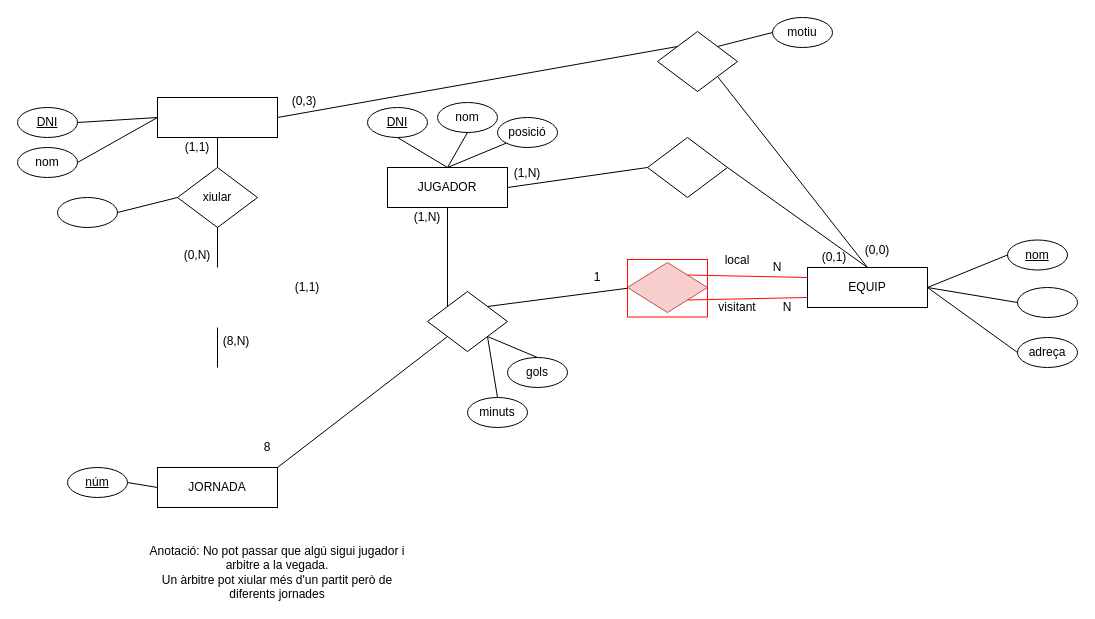
Image size: 1095x619. Some labels were removed from this diagram. Each missing label, with the box of its shape:
ARBITRE: (156, 96, 278, 138)
color: (1016, 286, 1078, 318)
jugar: (426, 290, 508, 352)
nota: (56, 196, 118, 228)
partit: (626, 262, 708, 312)
pertanyer: (646, 136, 728, 198)
recussar: (656, 30, 738, 92)
